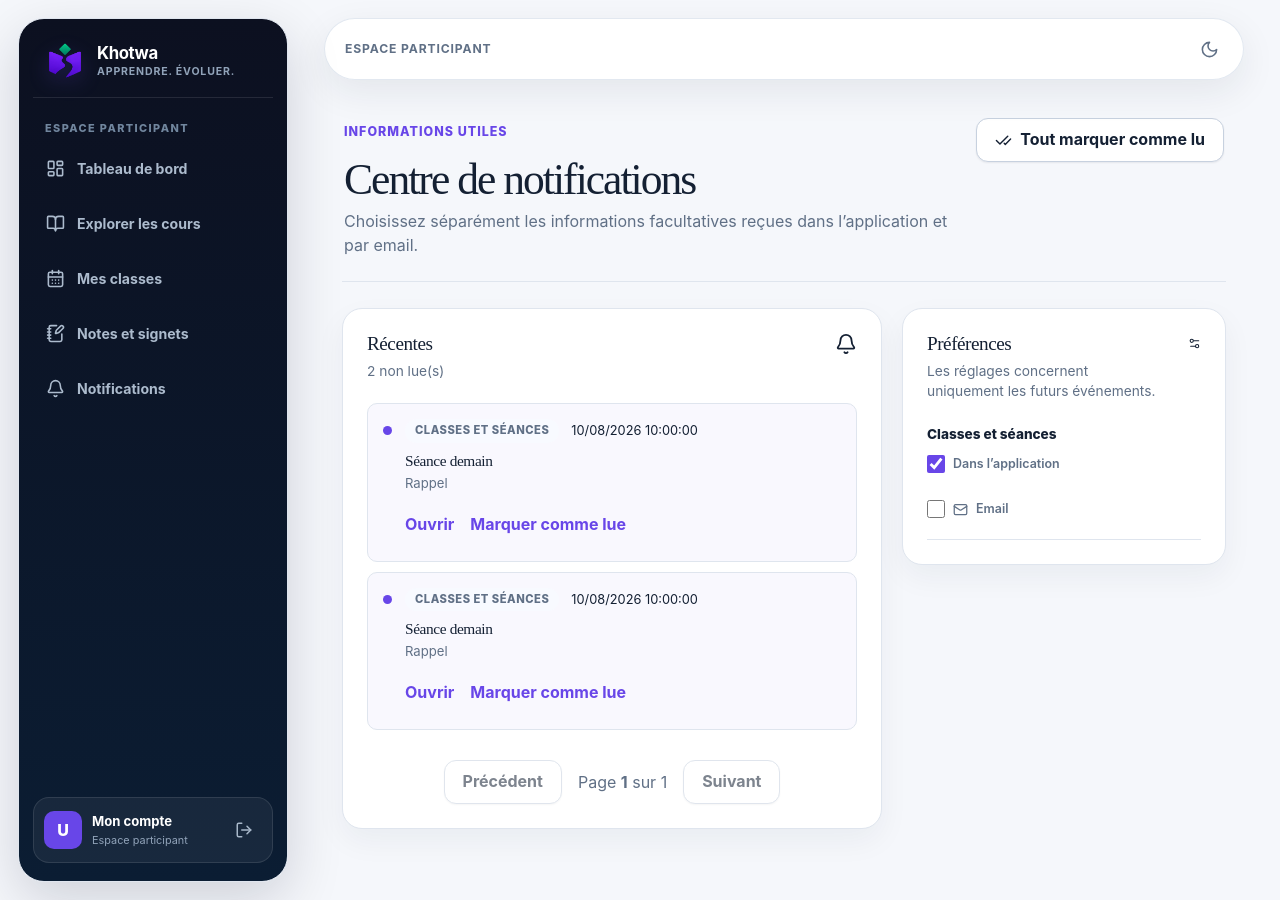
Test: centre de notifications › maintient le compteur lors de la lecture individuelle puis globale
Click the 1st button "Marquer comme lue": (548, 524) [466,502,630,546]
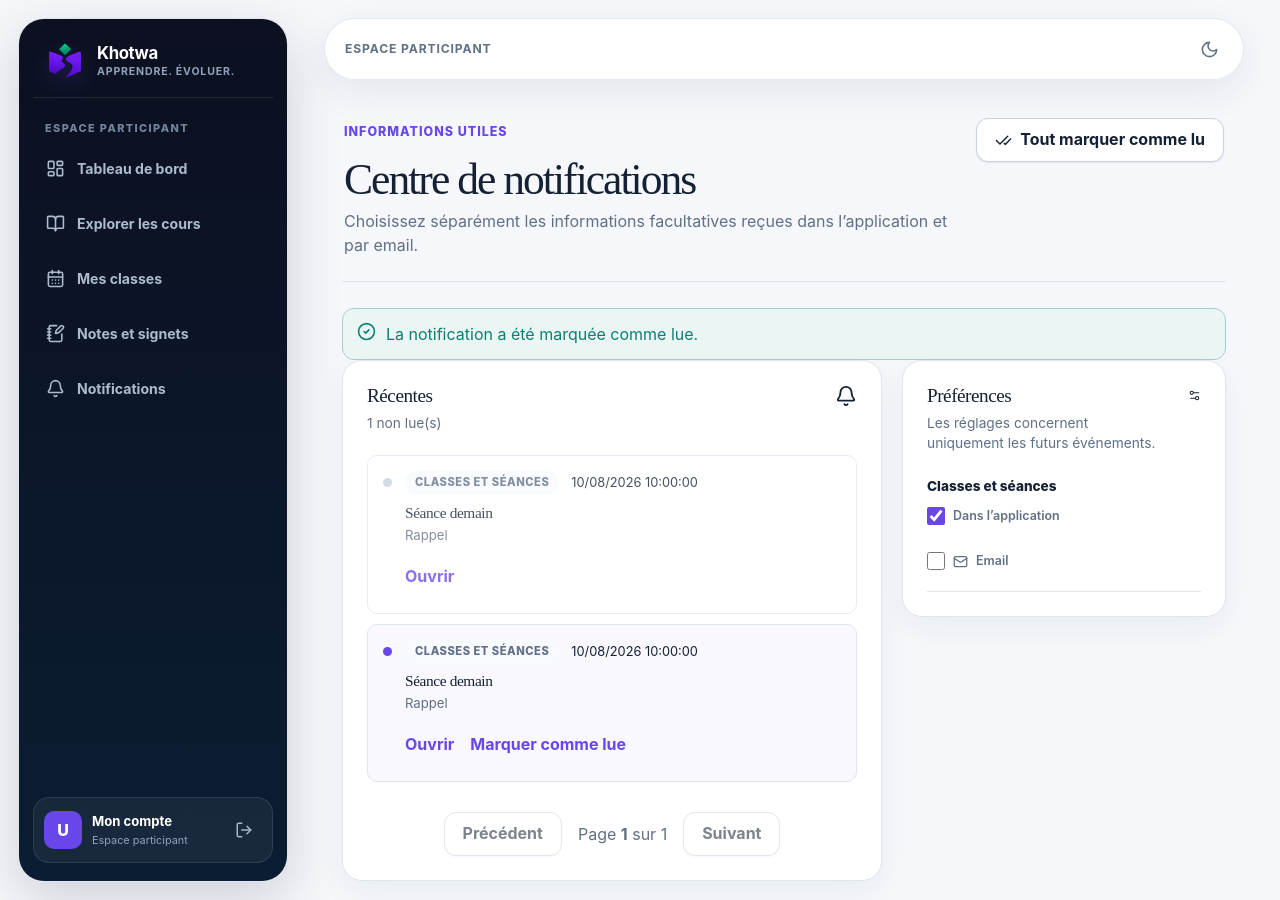
Check: the text "1 non lue(s)" is shown, box [367,413,442,433]
Click the button "Tout marquer comme lu": (1100, 140) [976,118,1224,162]
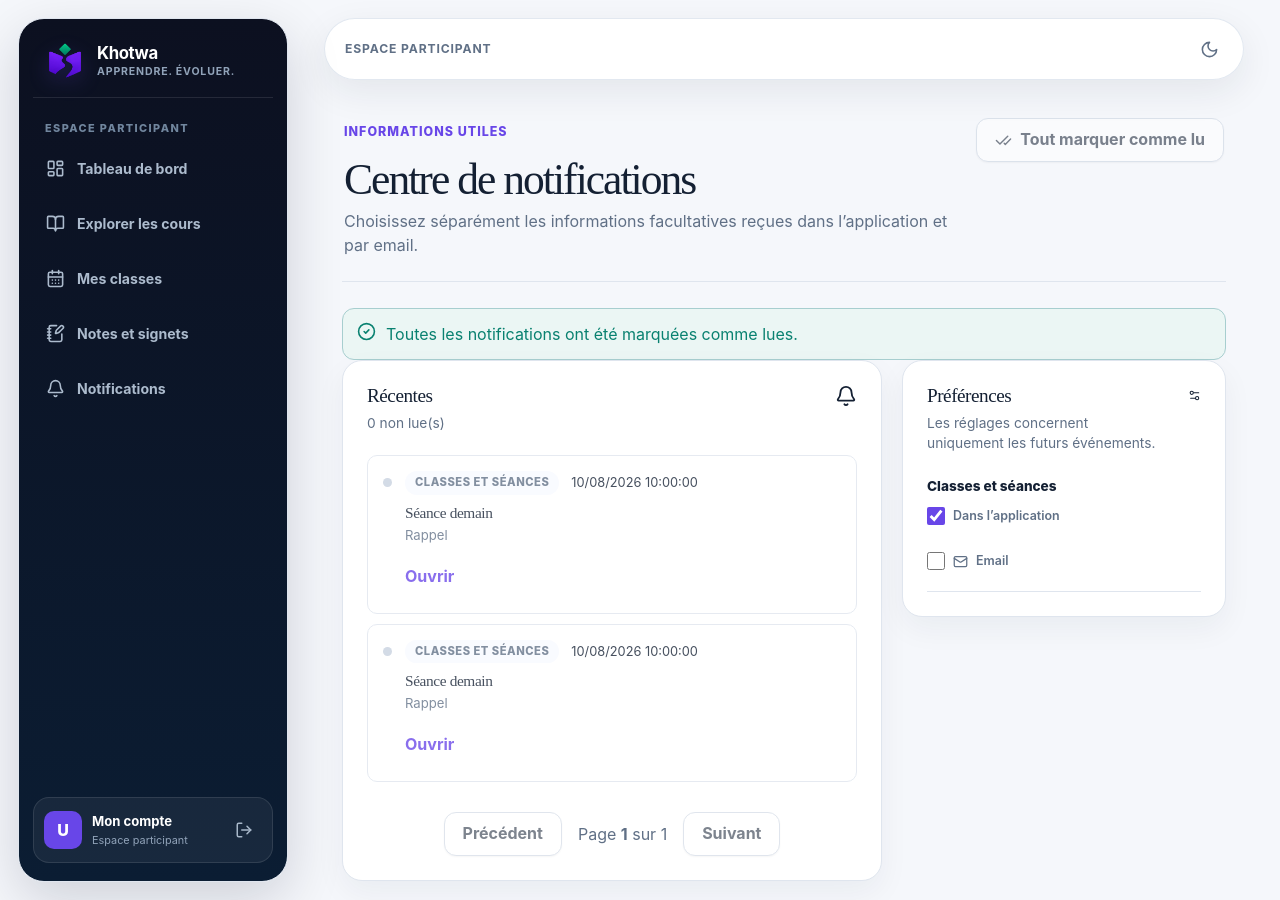
Check: the text "0 non lue(s)" is shown, box [367,413,445,433]
